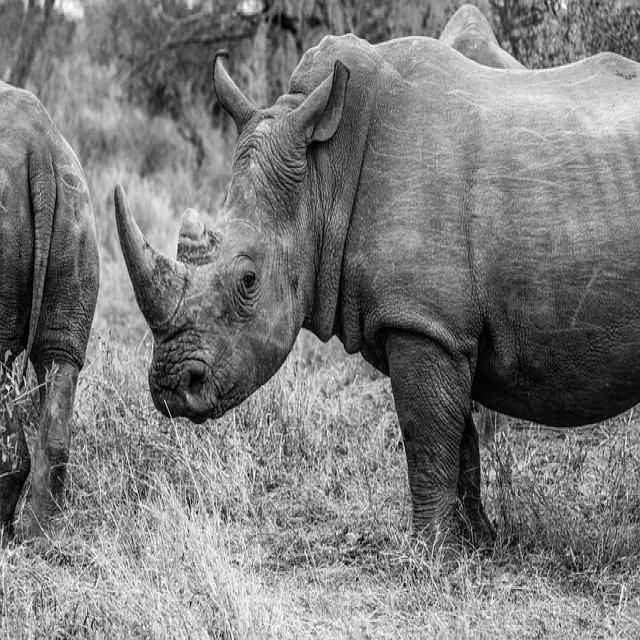Herbivorous: (113, 34, 640, 555)
